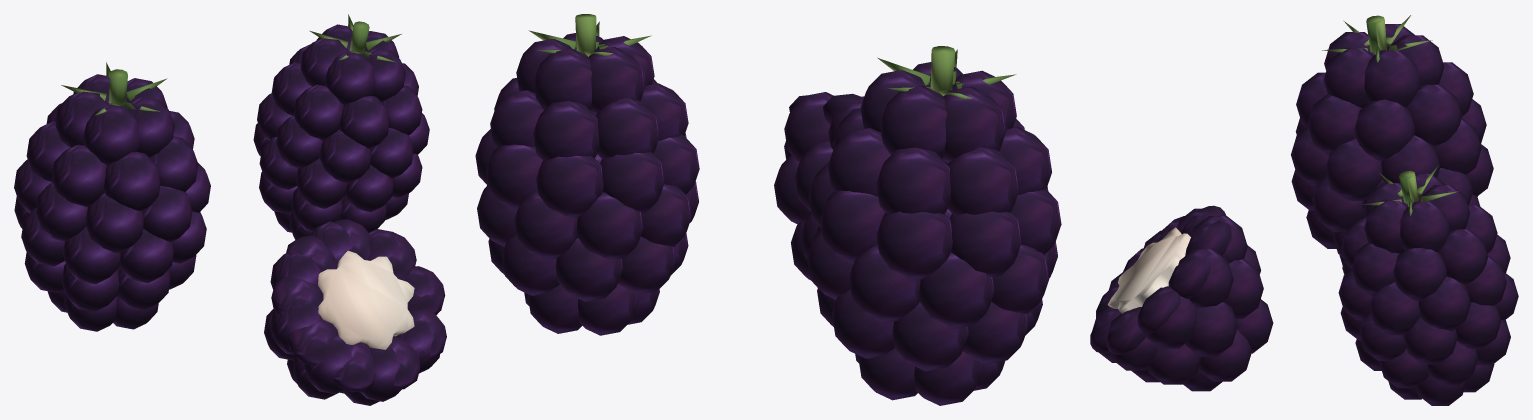
File: NP_Blackberry_Harvest.fbx
The picture shows the model from 3 angles, left to right: view 1: azimuth 30°, elevation 25°; view 2: azimuth 150°, elevation 25°; view 3: azimuth 270°, elevation 25°; orthographic projection. The views are drawn at different scales.
Visible parts, largest first — view 1: NP_Blackberry_Harvest; view 2: NP_Blackberry_Harvest; view 3: NP_Blackberry_Harvest.
Boxes of the visible parts, box(x1,y1,x2,y2) form: NP_Blackberry_Harvest: box(14, 14, 446, 405); NP_Blackberry_Harvest: box(475, 14, 1061, 405); NP_Blackberry_Harvest: box(1090, 15, 1518, 405).
Size of the model in its own units: 45.97 by 31.74 by 41.18.
Materials: 1 (1 with a texture image).
